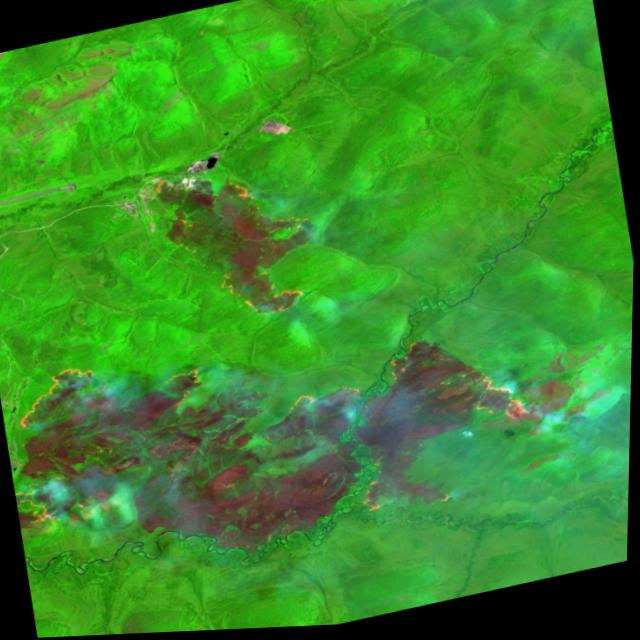fire: (0, 265, 568, 614), (123, 134, 338, 344)
